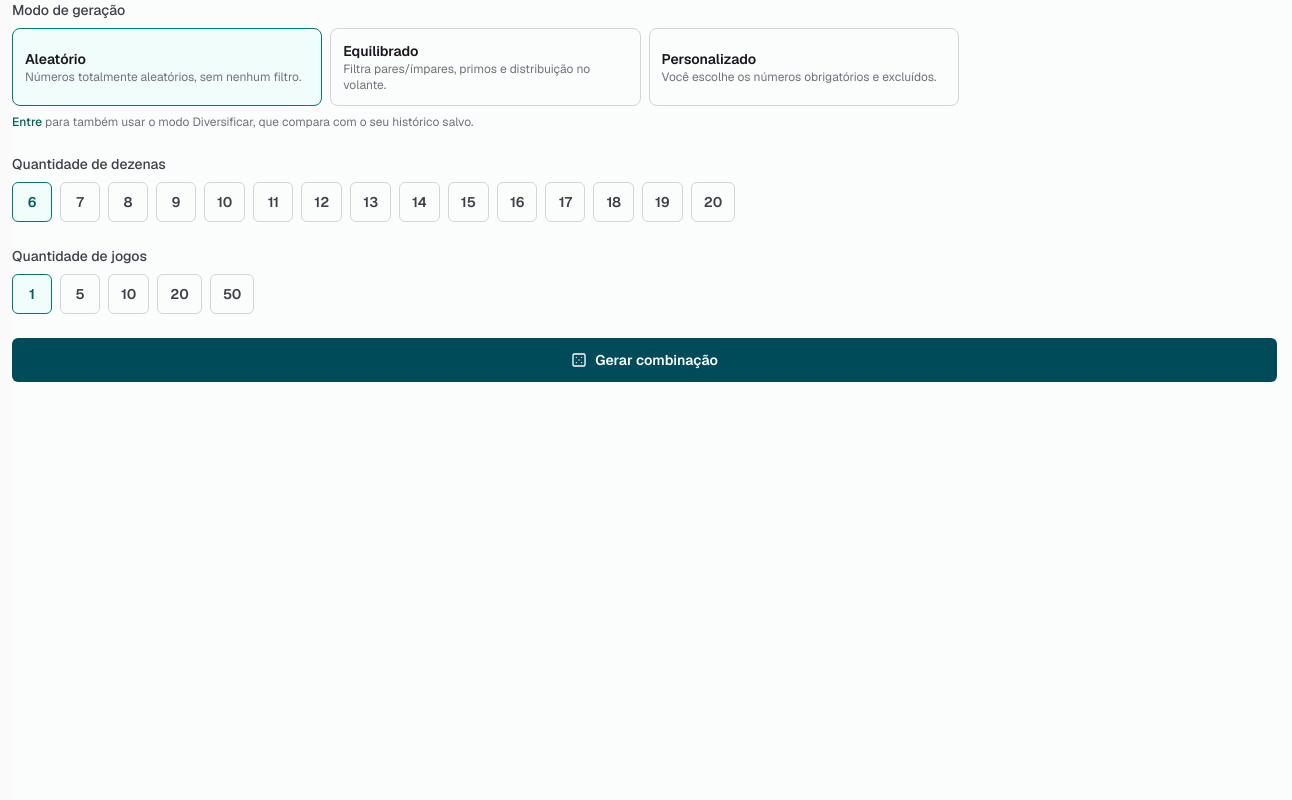
Test case: MegaSenaGenerator — deslogado (Fase B) › não mostra o modo Diversificar nem o botão Salvar, só o convite para entrar
Expected: the link "Entre" is shown, top-left (12, 114), bottom-right (42, 130)
Click the button "Gerar combinação" at (644, 360), box top-left (12, 338), bottom-right (1277, 382)
(page scrolled)
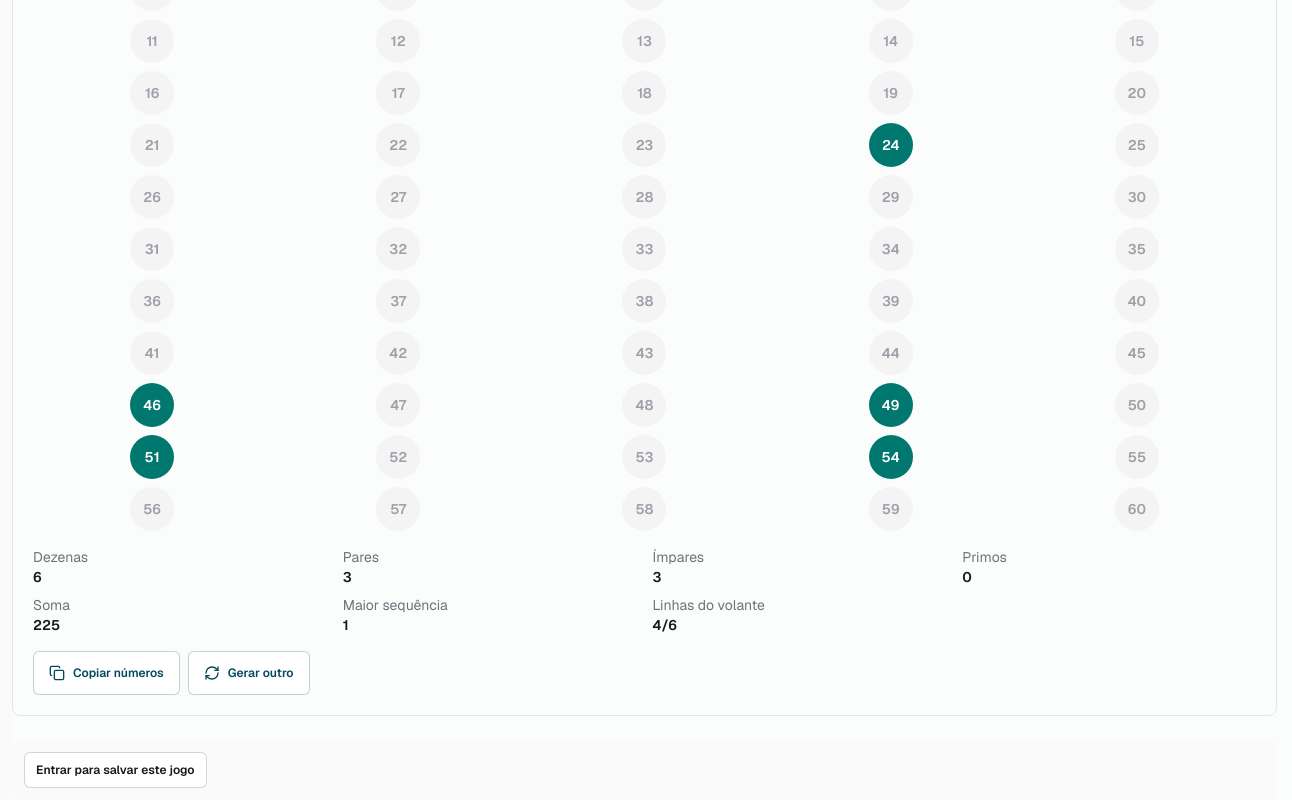
Now the link "Entrar para salvar este jogo" is shown, box top-left (24, 752), bottom-right (207, 788)
